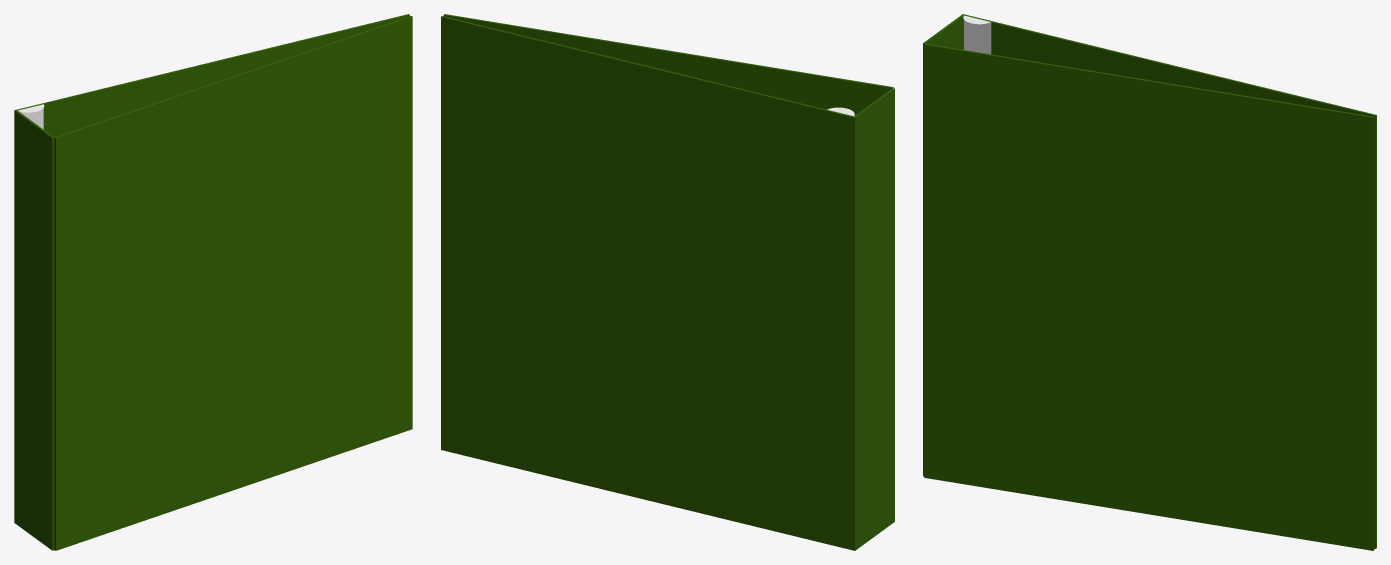
3 views of the same model, side by side, from view 1: azimuth 30°, elevation 25°; view 2: azimuth 150°, elevation 25°; view 3: azimuth 330°, elevation 25° (orthographic). The views are drawn at different scales.
Parts seen in each view (by area): view 1: green binder; view 2: green binder; view 3: green binder.
Part boxes in pixels (<box>): green binder: <box>14,14,412,550</box>; green binder: <box>441,14,894,550</box>; green binder: <box>923,14,1376,550</box>.
Bounding box in the file's own units: 12.01 × 12 × 2.06.
